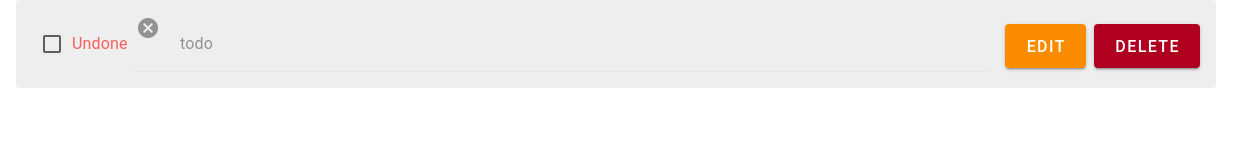
Test: ToDoItem.vue › When clicking on EDIT button › textarea is activated
Click the button "Edit" at (1046, 46), box [1005, 24, 1086, 68]
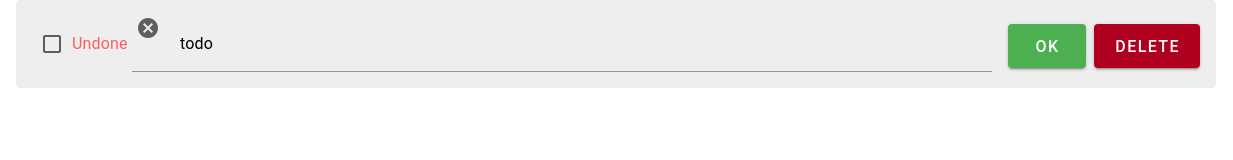
Check: the text box is enabled, box [164, 16, 980, 72]
